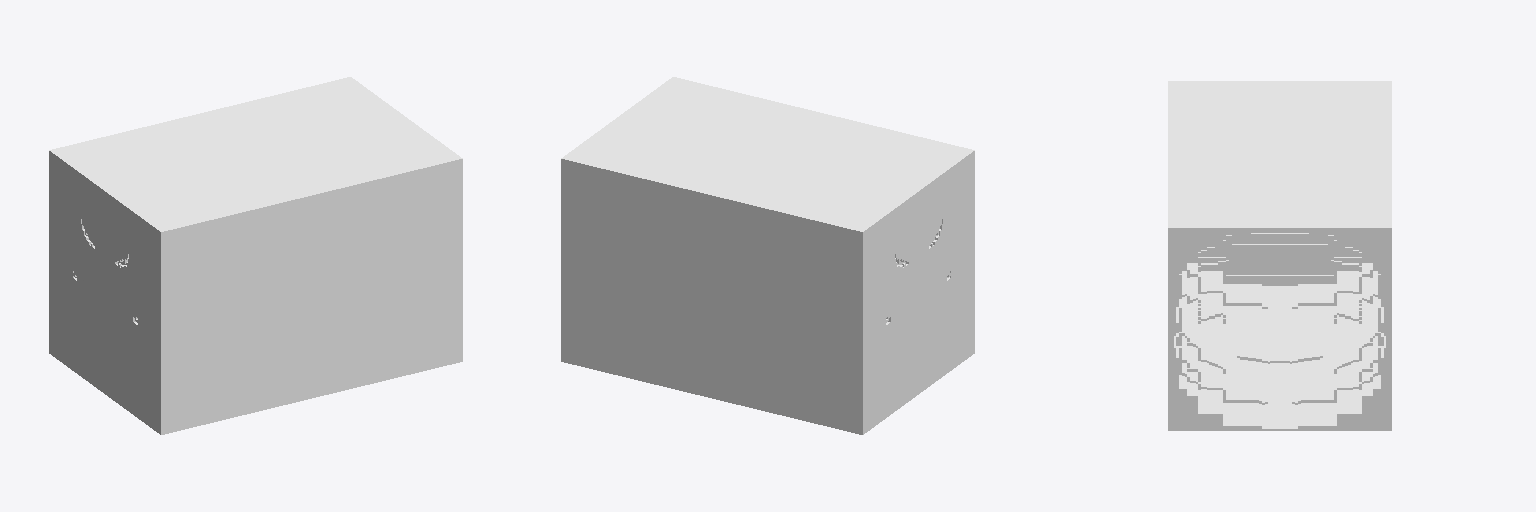
File: background02.obj
3 renders of one model, left to right at view 1: azimuth 30°, elevation 25°; view 2: azimuth 150°, elevation 25°; view 3: azimuth 270°, elevation 25°, orthographic.
Bounding box in the file's own units: 126 × 81 × 81.